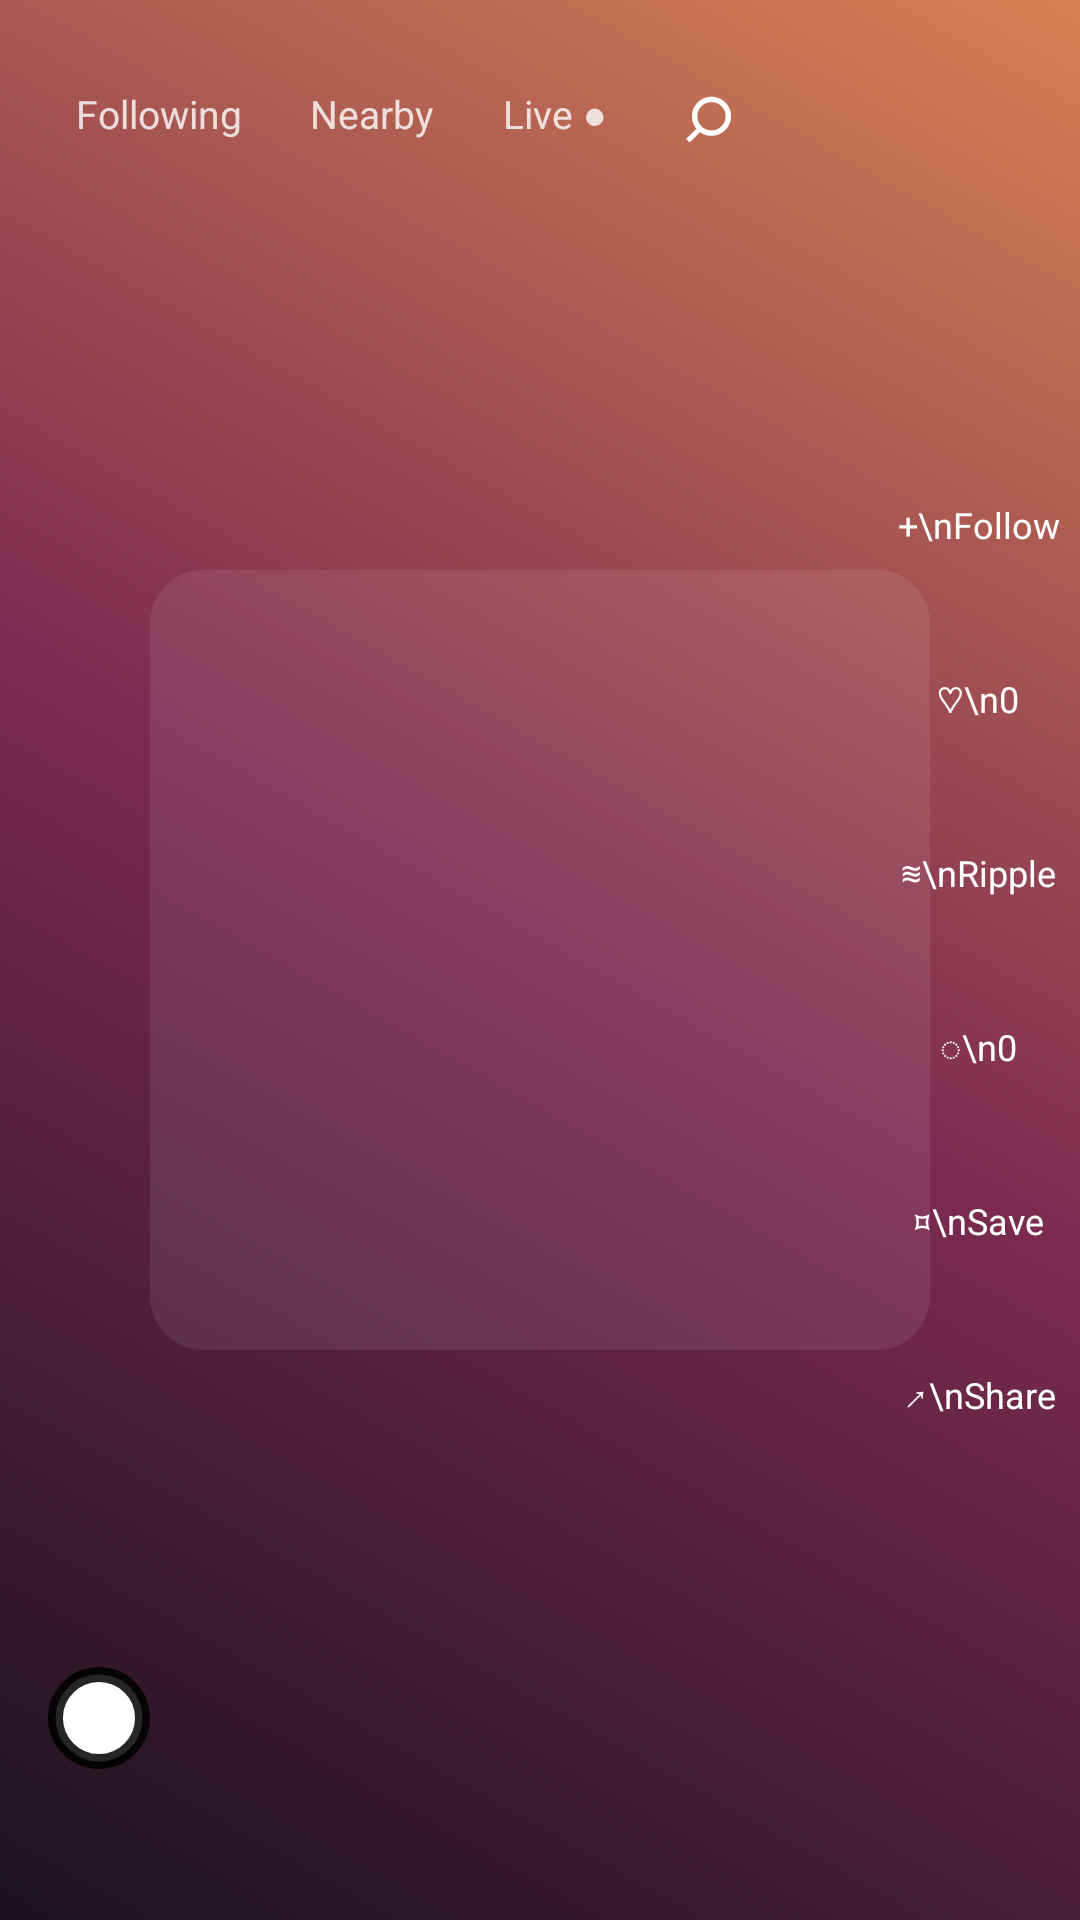

Icon bounding boxes for this 1080px×1920px phone screenshot, format [x1=x1, y1=y1, x2=x2, y2=y2]:
camera capture ring: [x1=48, y1=1667, x2=150, y2=1769]
